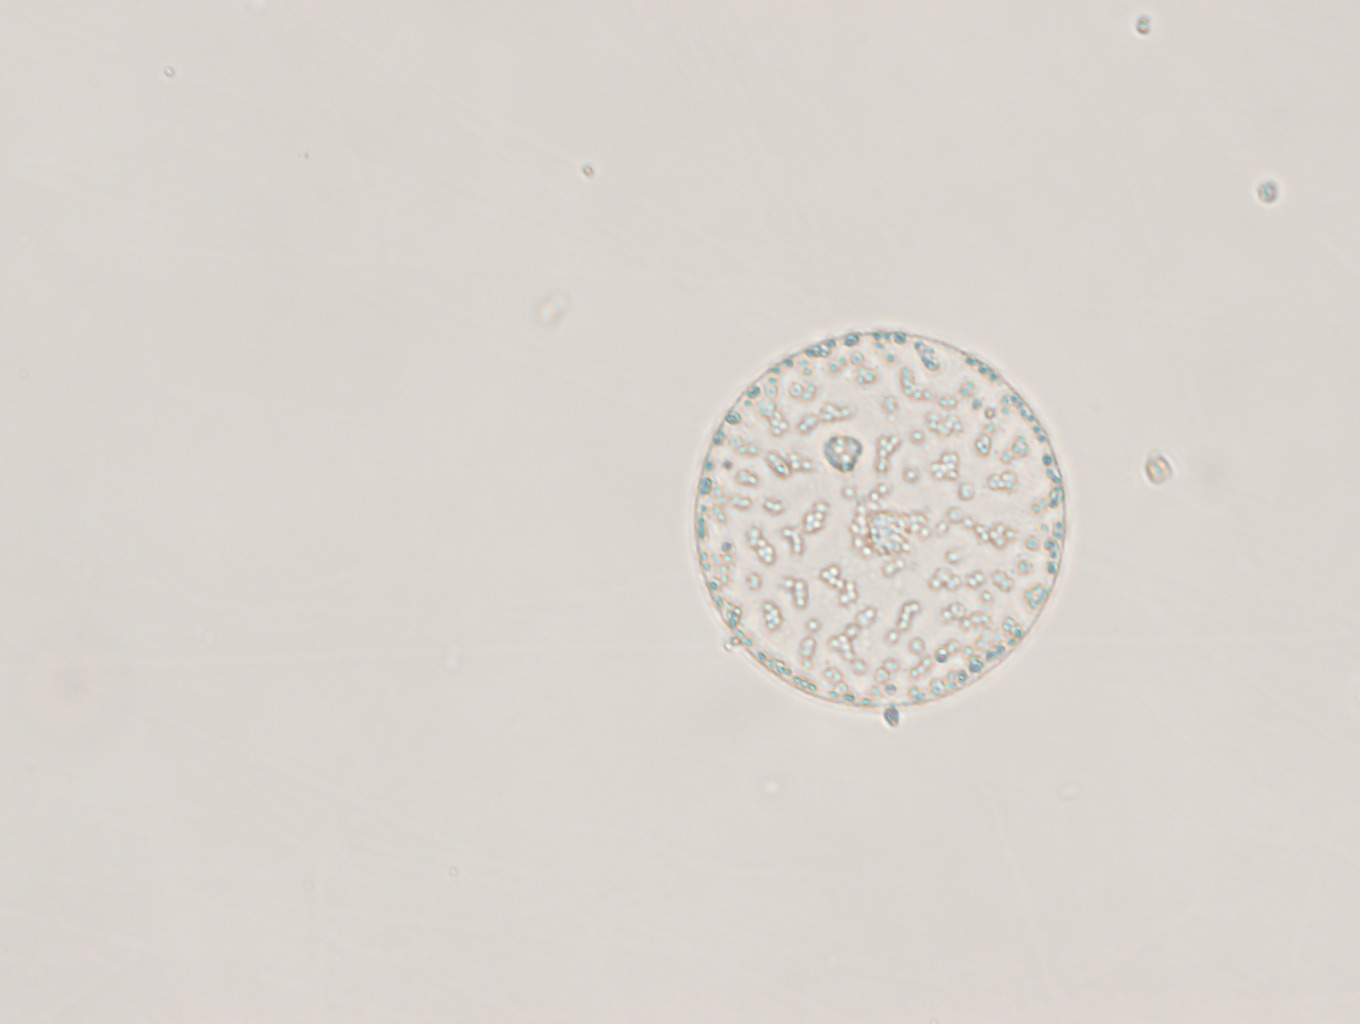coscinodiscus: (688, 325, 1071, 720)
